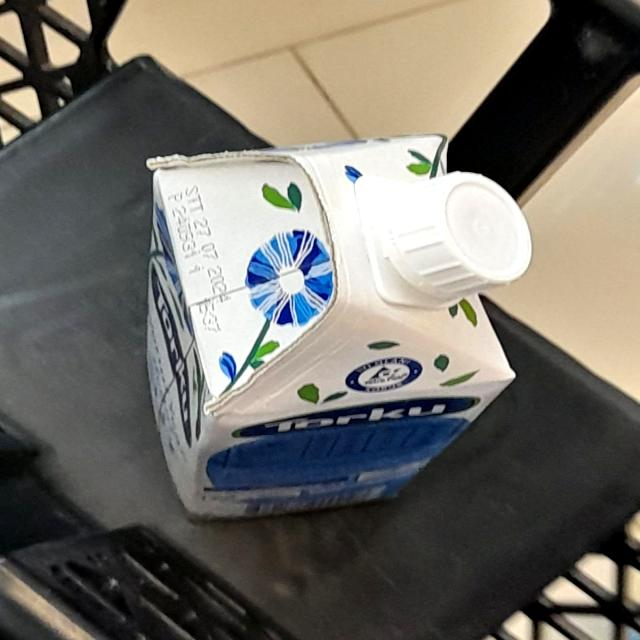milk: (133, 117, 535, 565)
